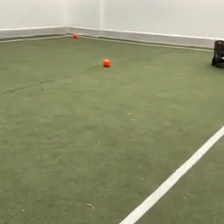ball: (102, 56, 111, 67), (72, 32, 78, 39)
robot: (210, 38, 224, 69)
